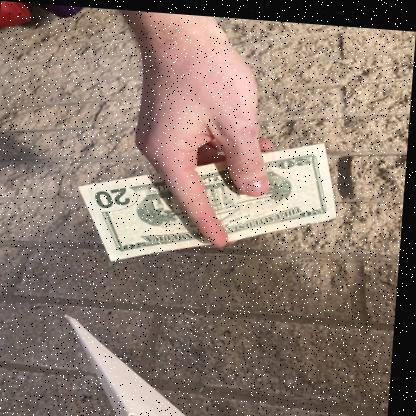dollar_back: (79, 136, 339, 259)
